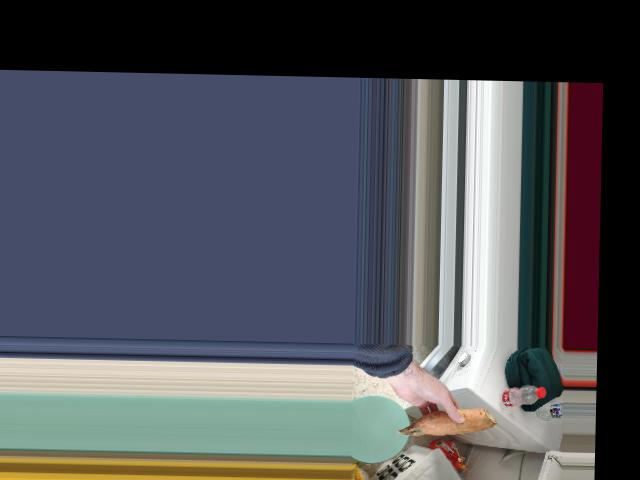sweet_potato: (392, 411, 500, 439)
